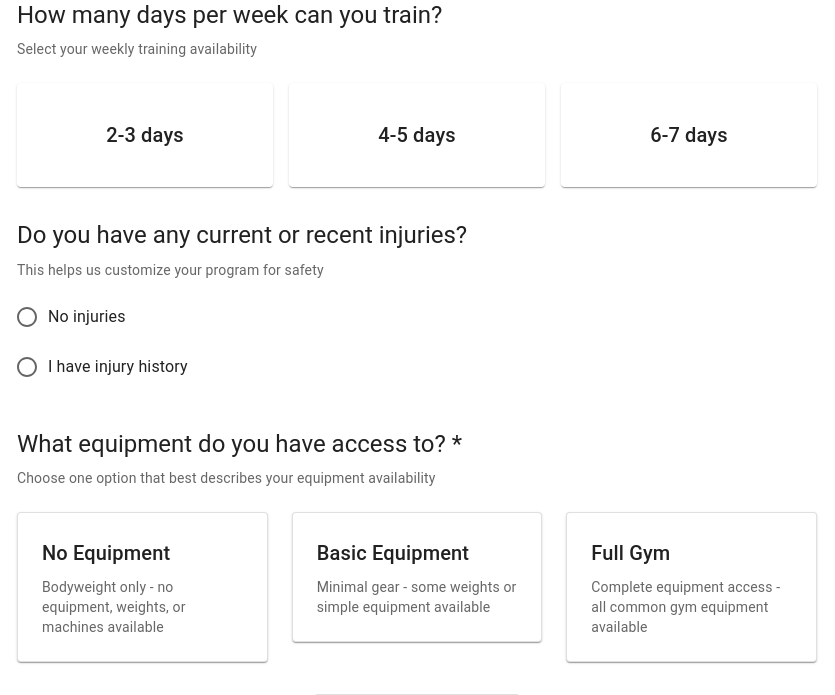
Scenario: AssessmentForm › Equipment Follow-up Section - Story 19.5 › should show basic equipment follow-up section when basic equipment is selected
(page scrolled)
Select "Basic Equipment"
Click the button "Basic Equipment": (417, 577) 293,513 -> 541,641
(page scrolled)
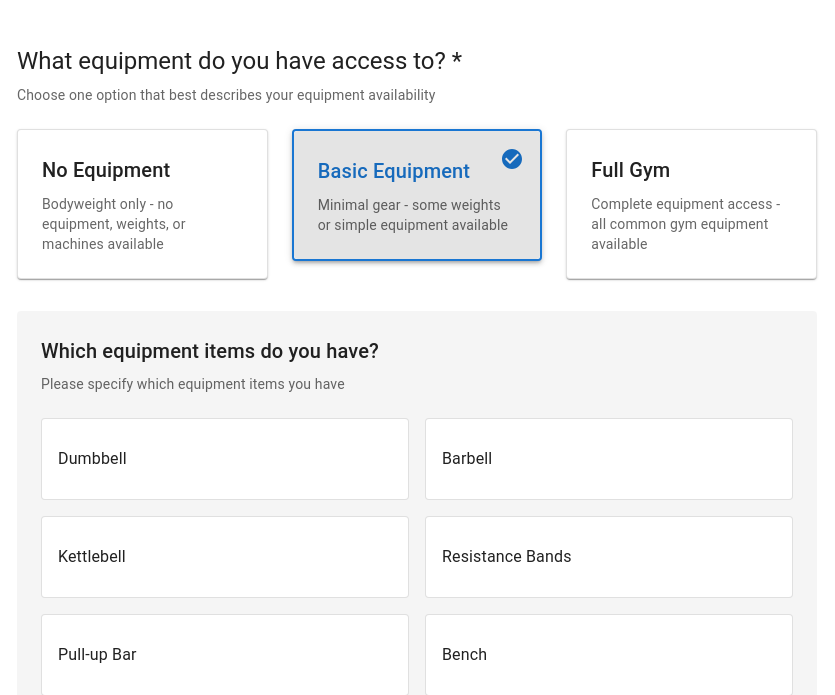
Expected: the text "Please specify which equipment items you have" is shown, 41,376 -> 345,392
